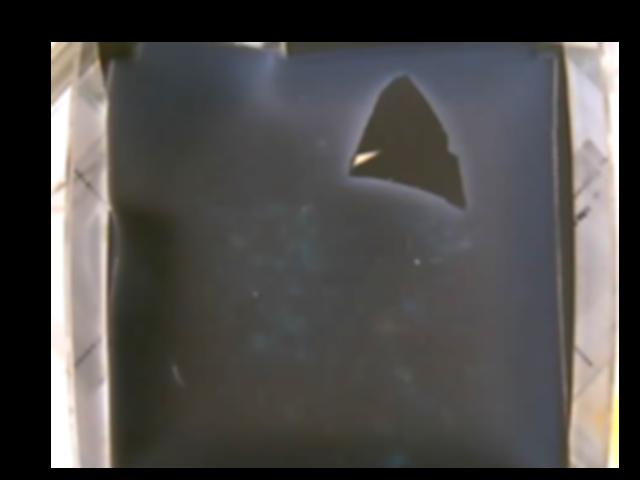China: (347, 73, 473, 209)
